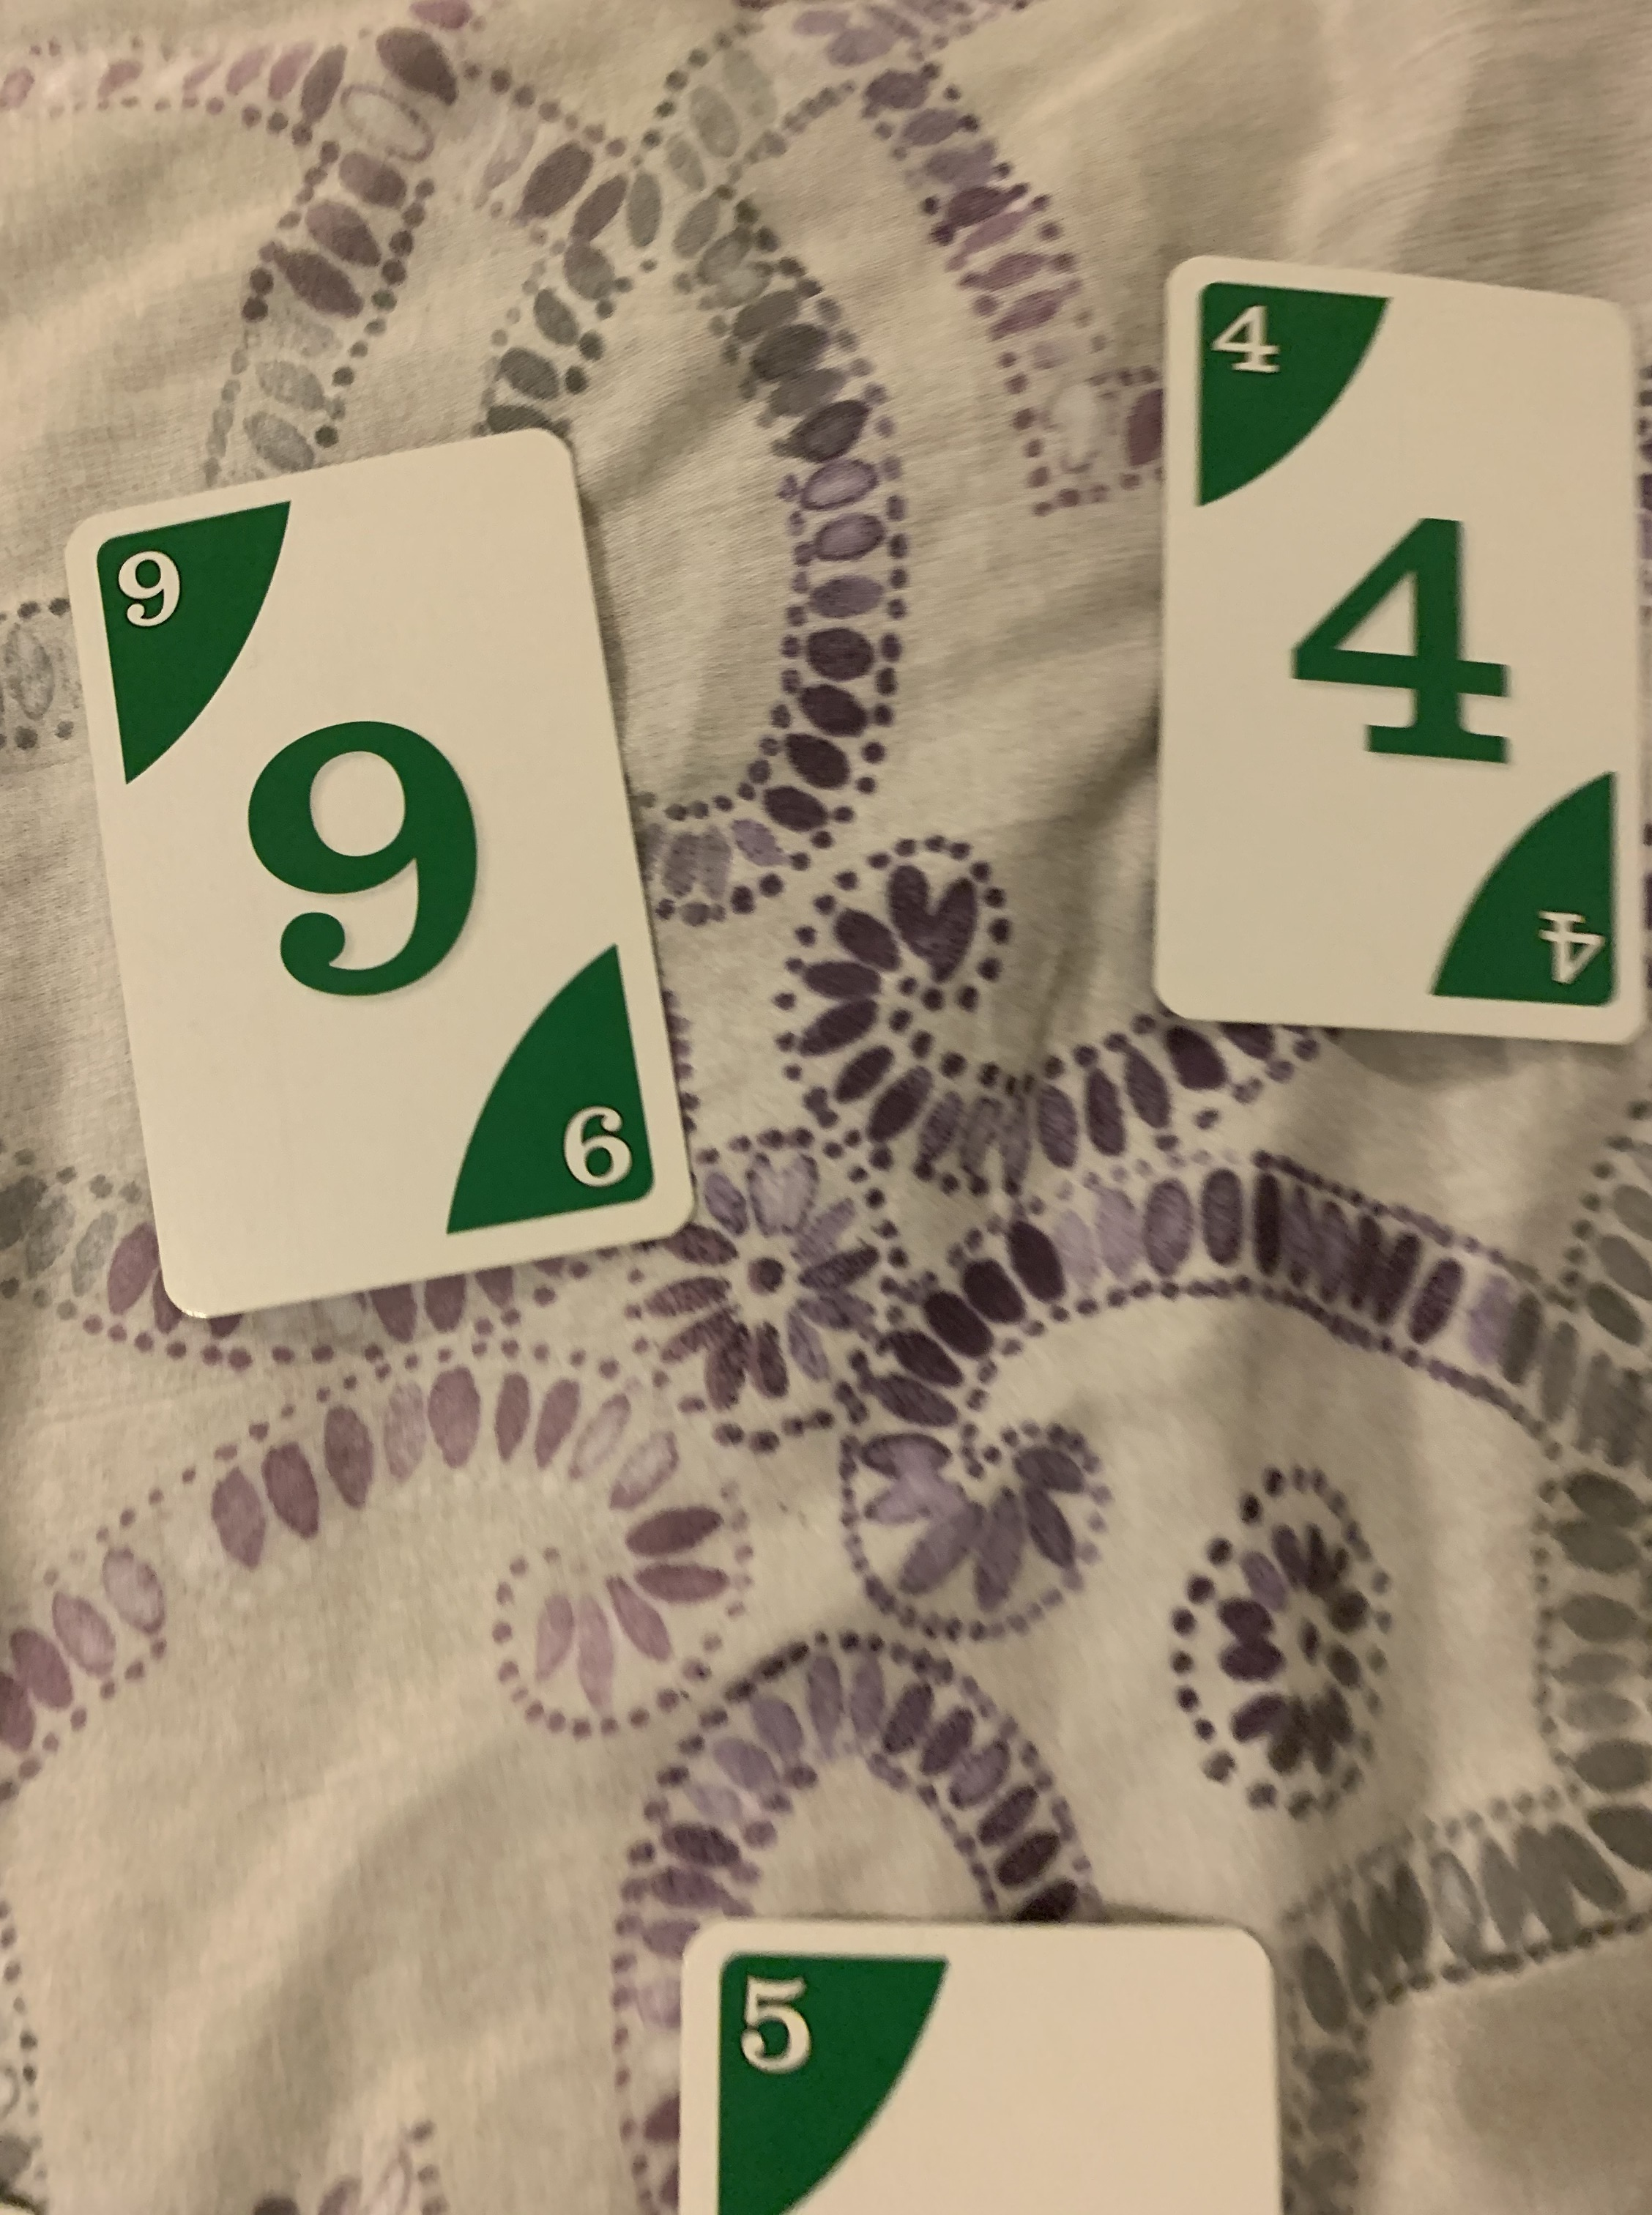four: (1145, 248, 1652, 1048)
nine: (59, 417, 698, 1323)
